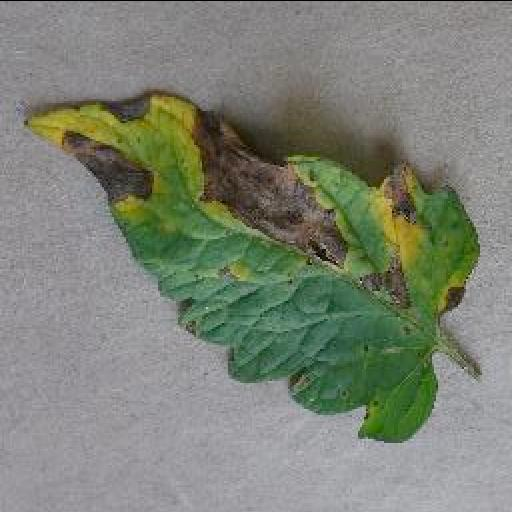disease_tomato: (19, 86, 485, 438)
